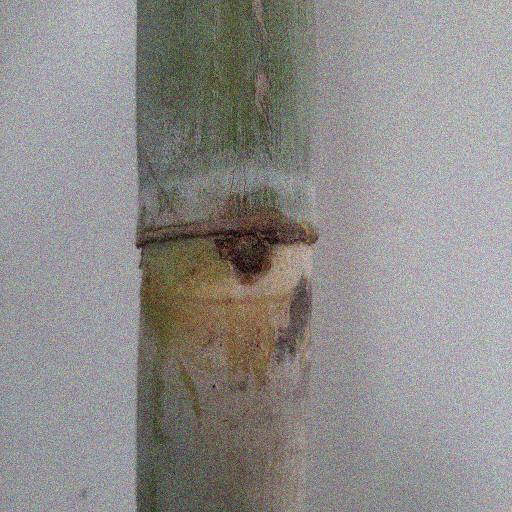Bud: (229, 235, 268, 273)
